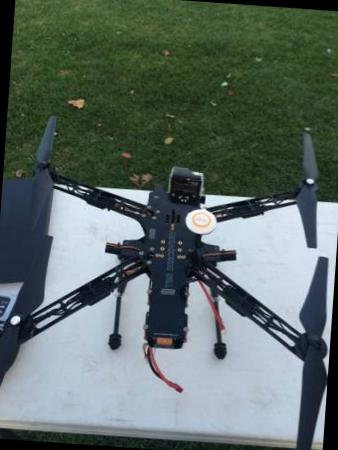drone: (0, 107, 338, 418)
